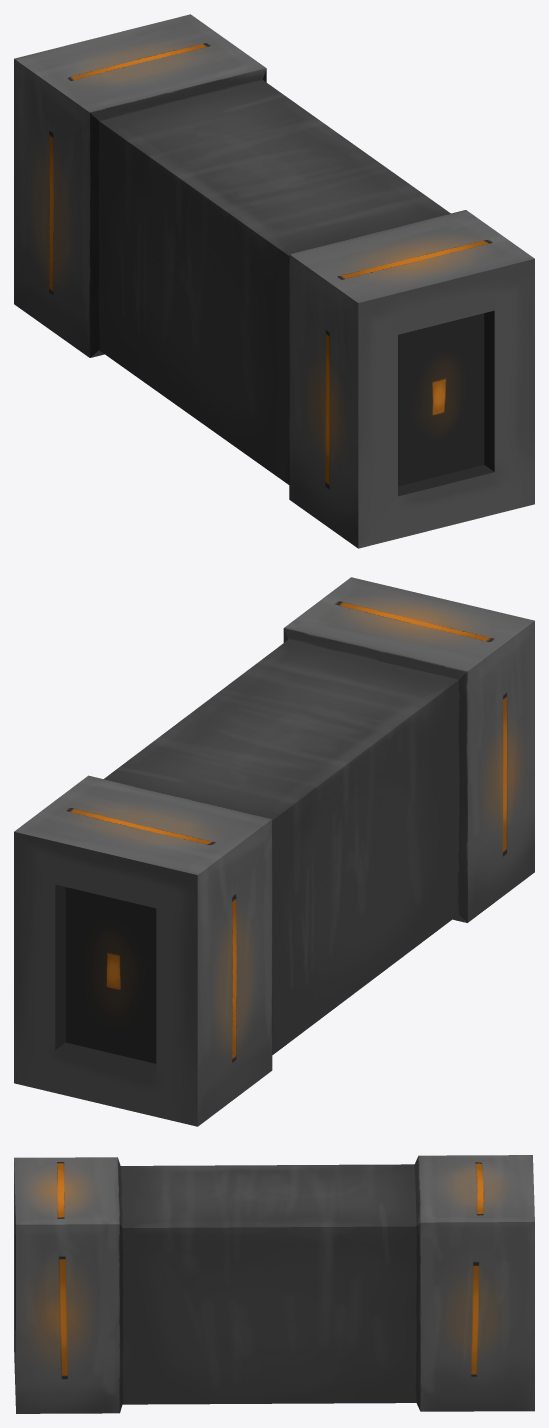
The model's file is Hinder_2_v3.fbx.
The picture shows the model from 3 angles, top to bottom: view 1: azimuth 30°, elevation 25°; view 2: azimuth 150°, elevation 25°; view 3: azimuth 270°, elevation 25°; orthographic projection. The views are drawn at different scales.
Visible parts, largest first — view 1: pCube2; view 2: pCube2; view 3: pCube2.
Part boxes in pixels (x1,y1,x2,y2): pCube2: (14,14,534,548); pCube2: (14,577,534,1126); pCube2: (14,1155,534,1413).
Bounding box in the file's own units: 256 × 323 × 806.
